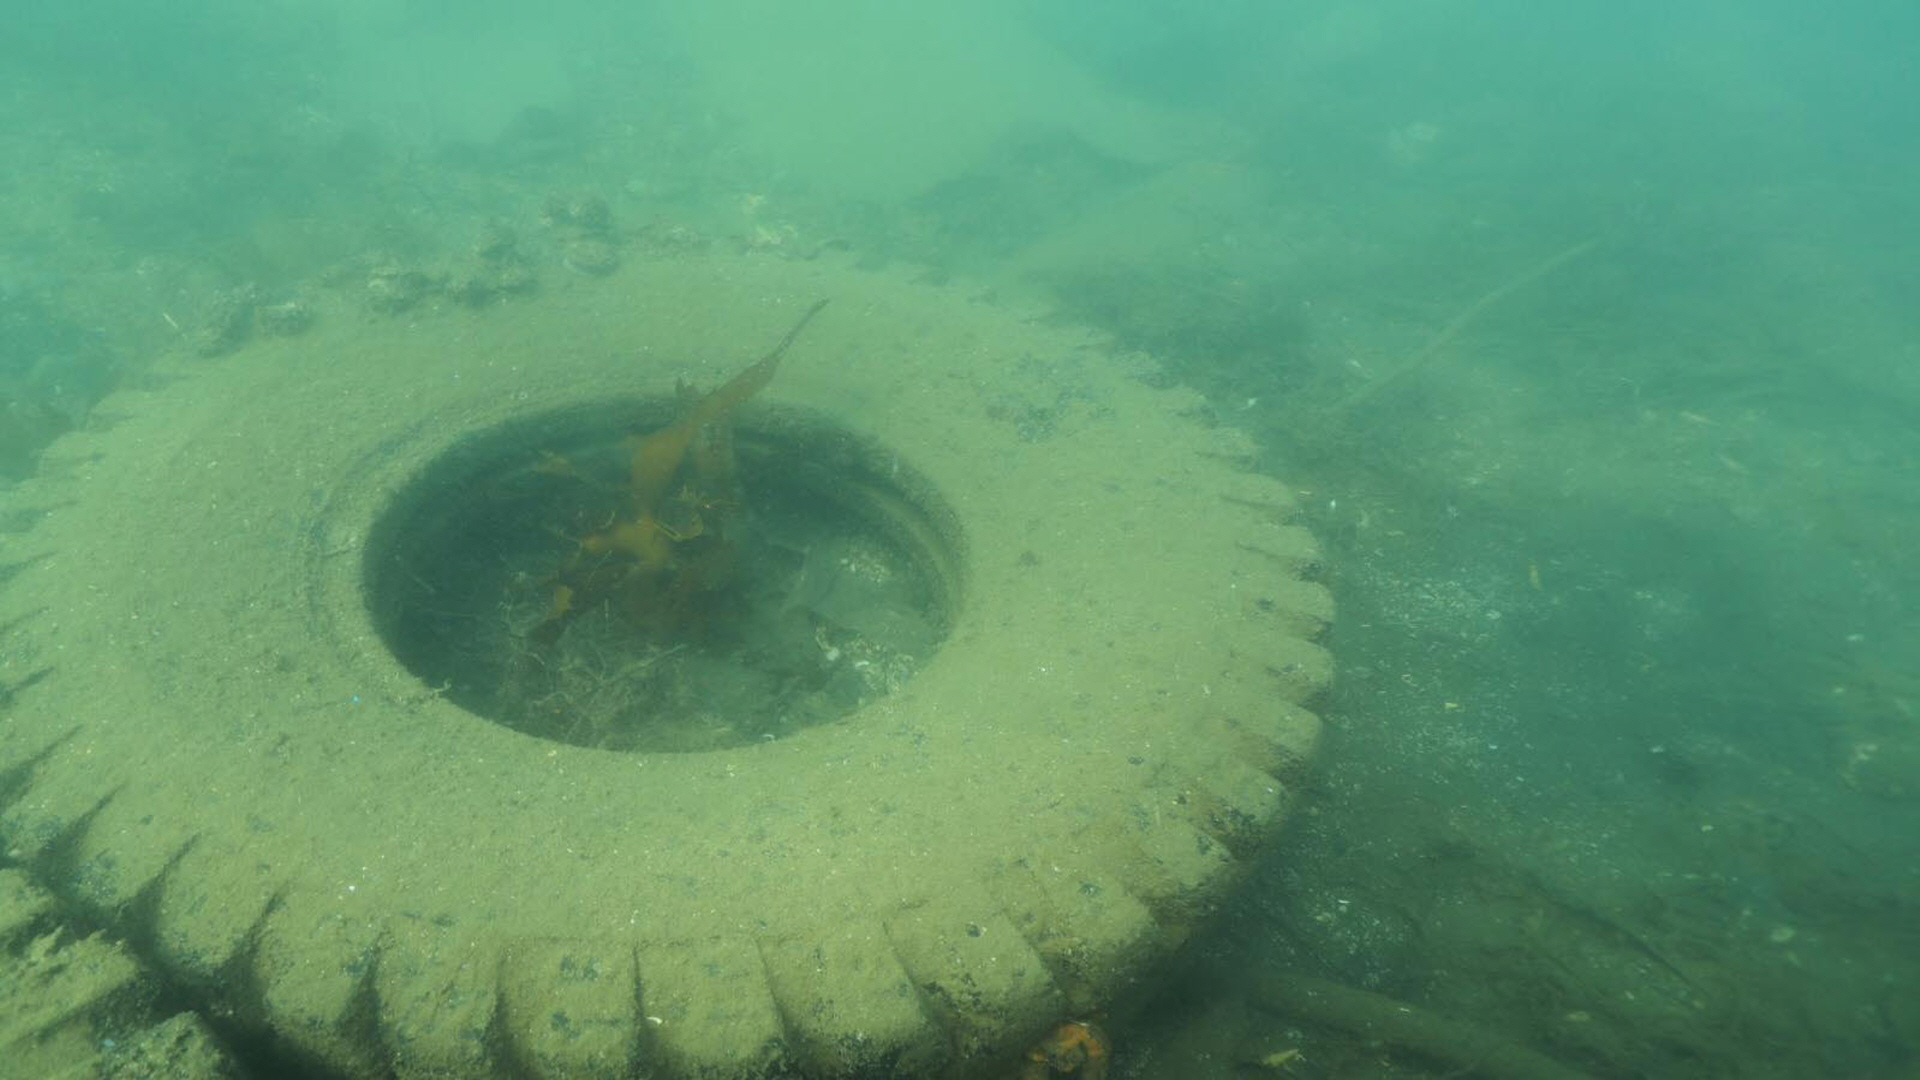tire: (0, 227, 1335, 1080)
